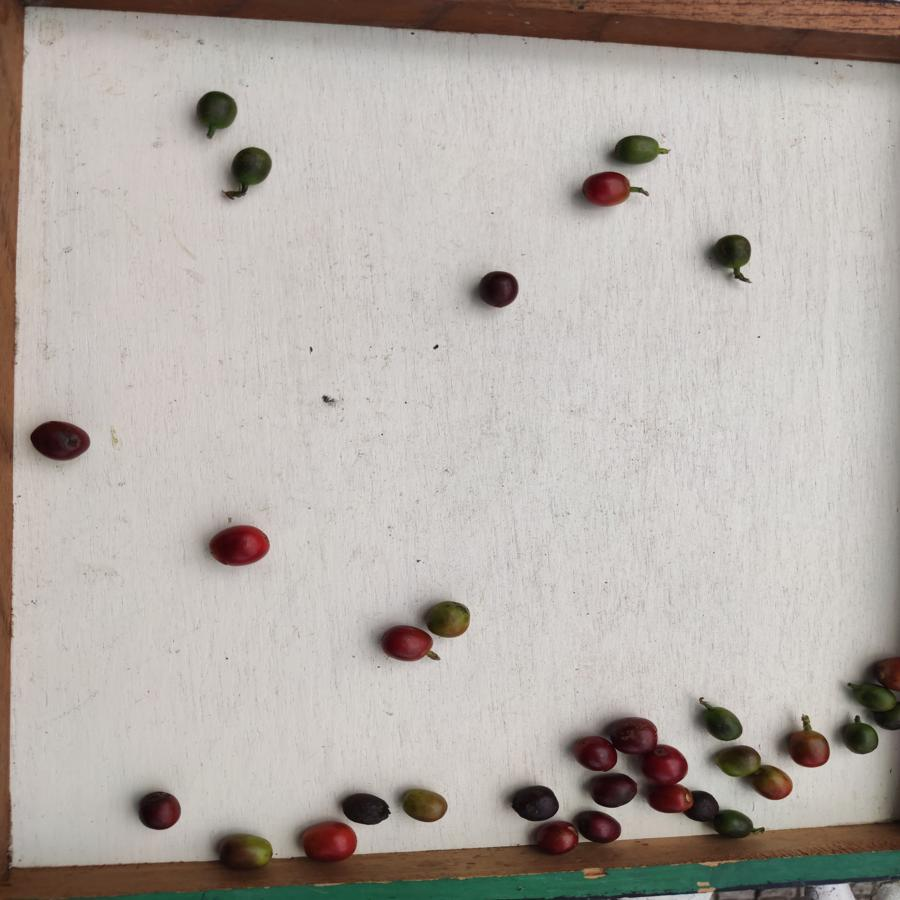Inmaduro: (713, 232, 756, 288), (231, 145, 275, 188), (701, 703, 745, 742), (197, 90, 240, 129), (613, 134, 663, 166), (841, 720, 880, 755), (717, 809, 761, 837), (853, 682, 893, 712)
Maduro: (208, 522, 271, 574), (295, 820, 359, 863), (578, 170, 631, 208), (380, 626, 433, 662), (644, 745, 693, 783), (647, 783, 693, 812)
Pinton: (215, 831, 277, 871), (400, 785, 449, 828), (783, 727, 833, 769), (750, 762, 797, 802), (425, 601, 472, 640), (716, 744, 760, 779)
Sobremaduro: (28, 420, 95, 462), (134, 789, 185, 833), (476, 268, 524, 311), (607, 715, 656, 754), (572, 807, 624, 842), (530, 820, 578, 857), (587, 772, 639, 806), (507, 785, 560, 818), (343, 791, 392, 824), (576, 737, 615, 772), (689, 786, 718, 826)
